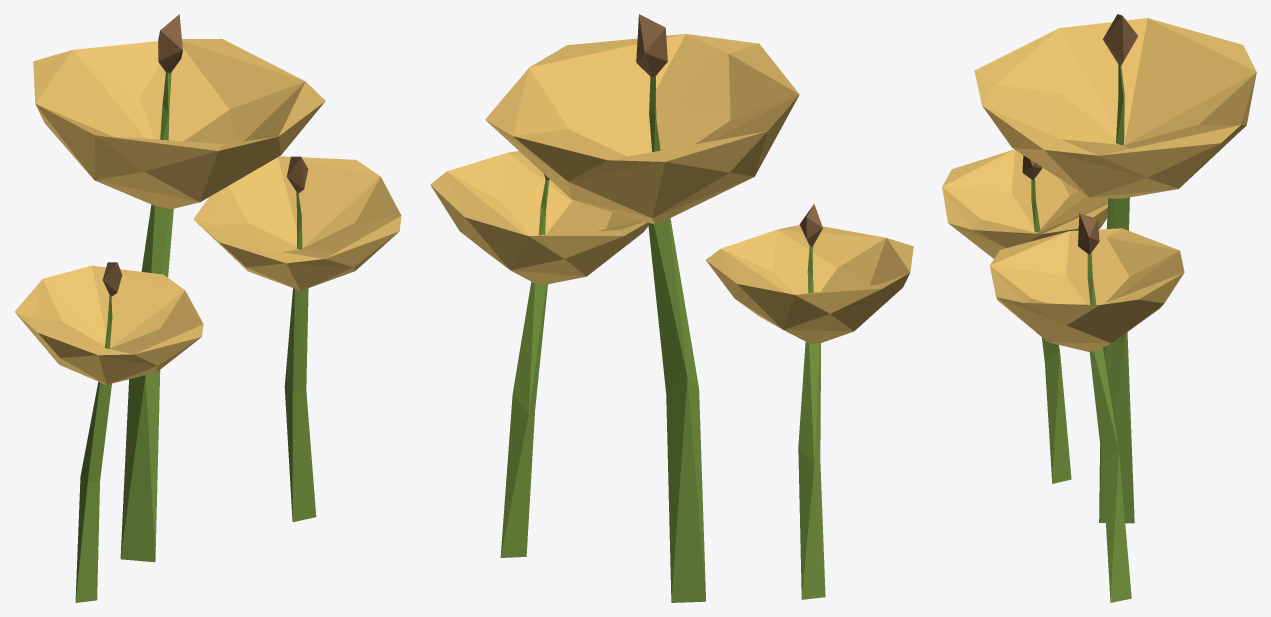
File: Flower_03.glb
The picture shows the model from 3 angles, left to right: view 1: azimuth 30°, elevation 25°; view 2: azimuth 150°, elevation 25°; view 3: azimuth 270°, elevation 25°; orthographic projection. The views are drawn at different scales.
Visible parts, largest first — view 1: Flower_03_LOD0; view 2: Flower_03_LOD0; view 3: Flower_03_LOD0.
Part boxes in pixels (<box>): Flower_03_LOD0: <box>14,14,401,602</box>; Flower_03_LOD0: <box>430,14,913,602</box>; Flower_03_LOD0: <box>942,14,1256,602</box>.
Size of what is drawn, in the model's own units: 0.1451 by 0.1909 by 0.1036.
Materials: 1 (1 with a texture image).
